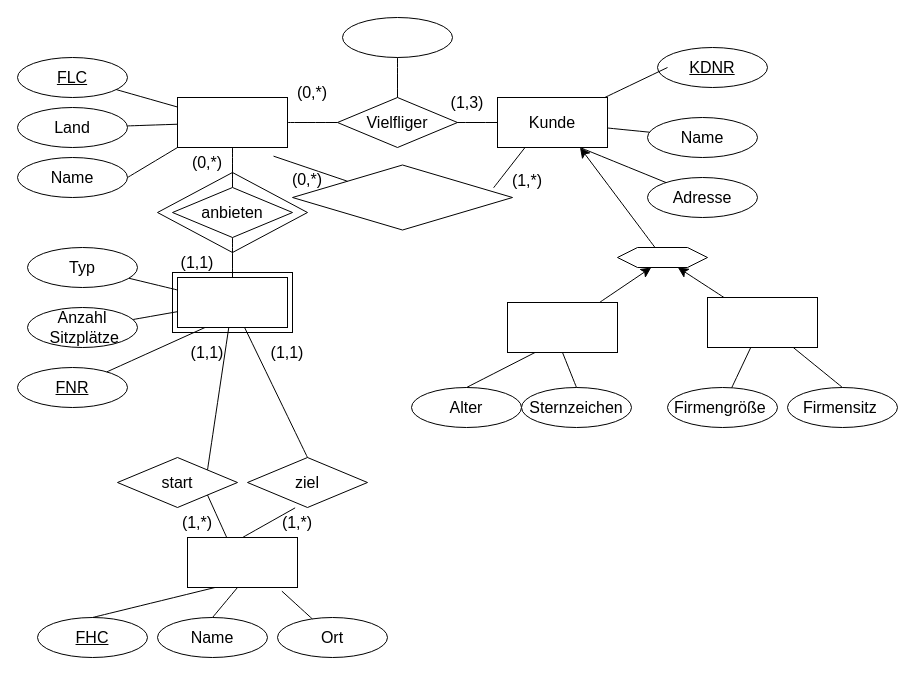
Image size: 915x675. Some labels were removed from this diagram. The shapes that lost their labels are listed below. From the top down, each one's centre as x and y in pixels, then its label:
At [397,37]: "Status".
At [232,122]: "Fluglinie".
At [402,197]: "Lieblingsfluggesellschaft.".
At [662,257]: "is-a".
At [232,302]: "Flug".
At [762,322]: "Firmen".
At [562,327]: "Personen".
At [242,562]: "Flughafen".
